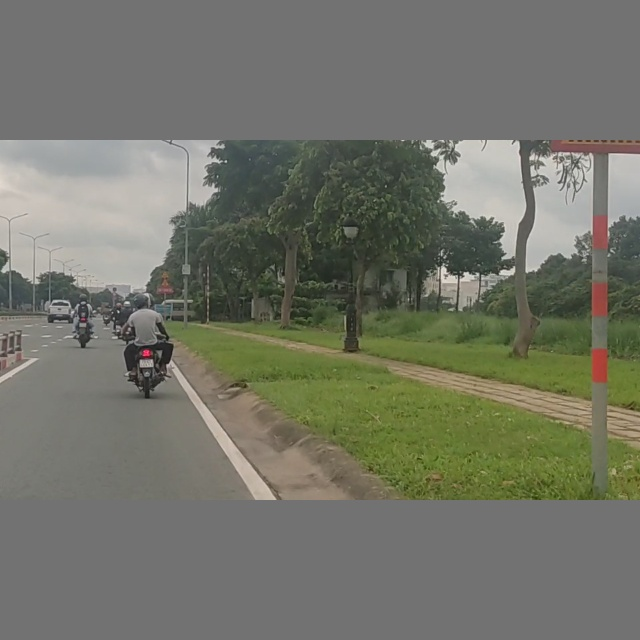P.130: (112, 287, 117, 291)
W.245a: (161, 271, 170, 279)
W.246a: (161, 279, 170, 287)
